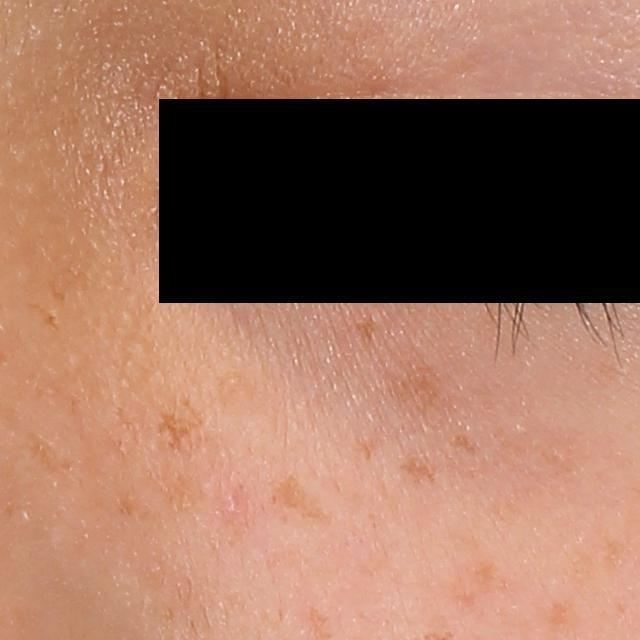melasma: (381, 346, 449, 420), (263, 467, 338, 528), (151, 392, 210, 451), (397, 444, 445, 489), (538, 597, 580, 640), (348, 310, 378, 348), (452, 432, 479, 456), (47, 279, 70, 303)
